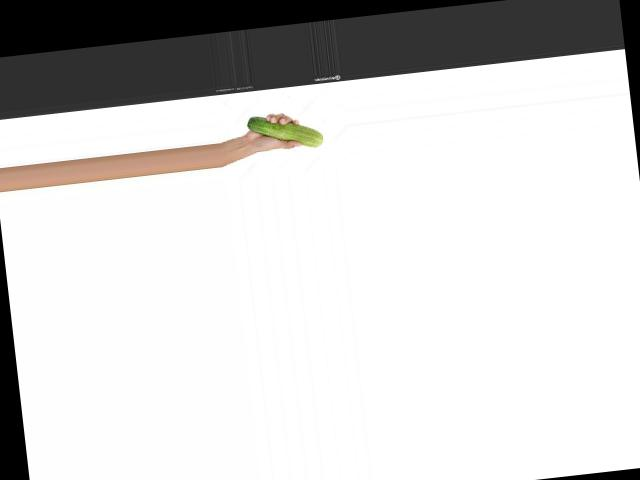cucumber: (245, 109, 323, 154)
